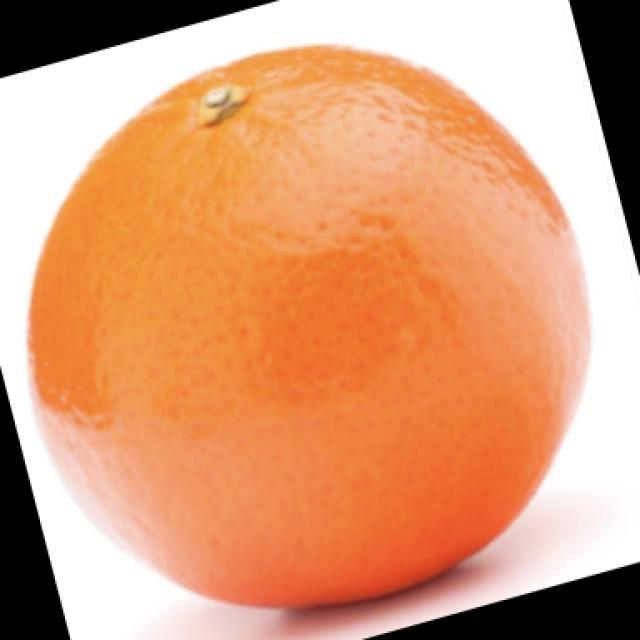Orange: (25, 42, 592, 610)
